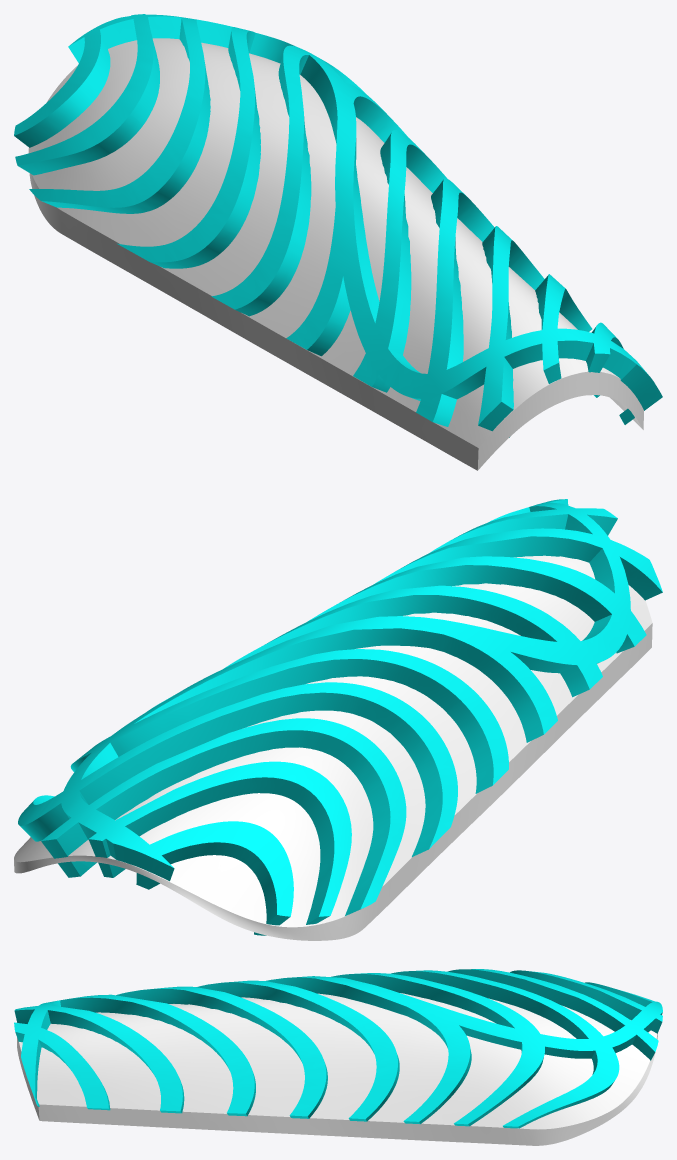
The model's file is tidal-form-coffin-web.glb.
3 renders of one model, top to bottom at view 1: azimuth 30°, elevation 25°; view 2: azimuth 150°, elevation 25°; view 3: azimuth 270°, elevation 25°, orthographic. The views are drawn at different scales.
Bounding box in the file's own units: 0.015 × 0.00678 × 0.0354.
